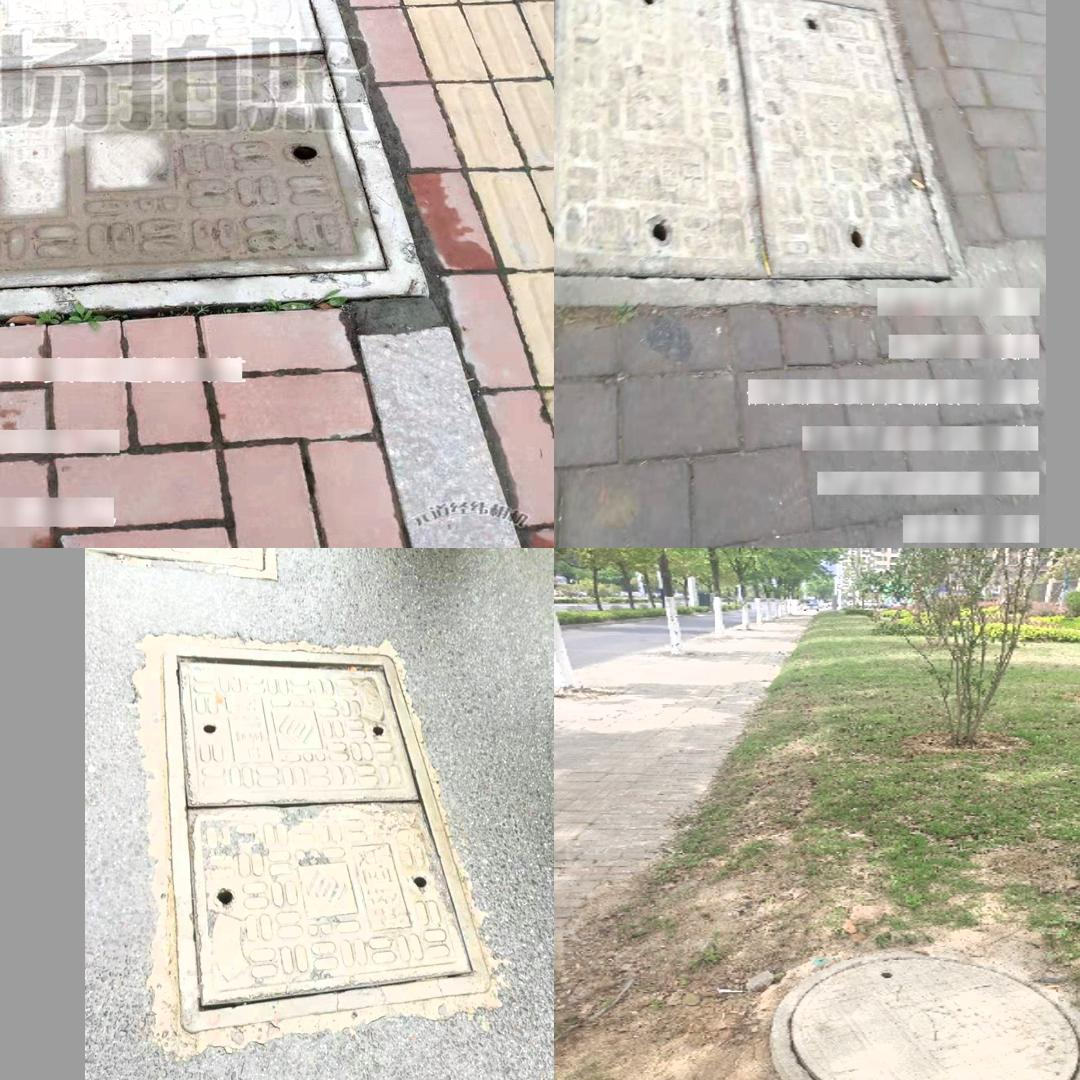good: (554, 0, 969, 307), (164, 646, 489, 1035), (0, 0, 359, 288), (771, 947, 1080, 1080)
